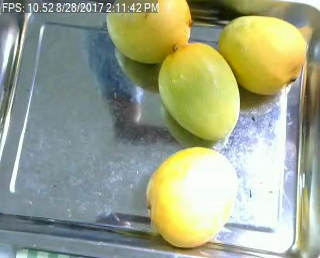Mango: (142, 146, 239, 249), (156, 41, 240, 140), (217, 14, 307, 94), (105, 0, 191, 63)
